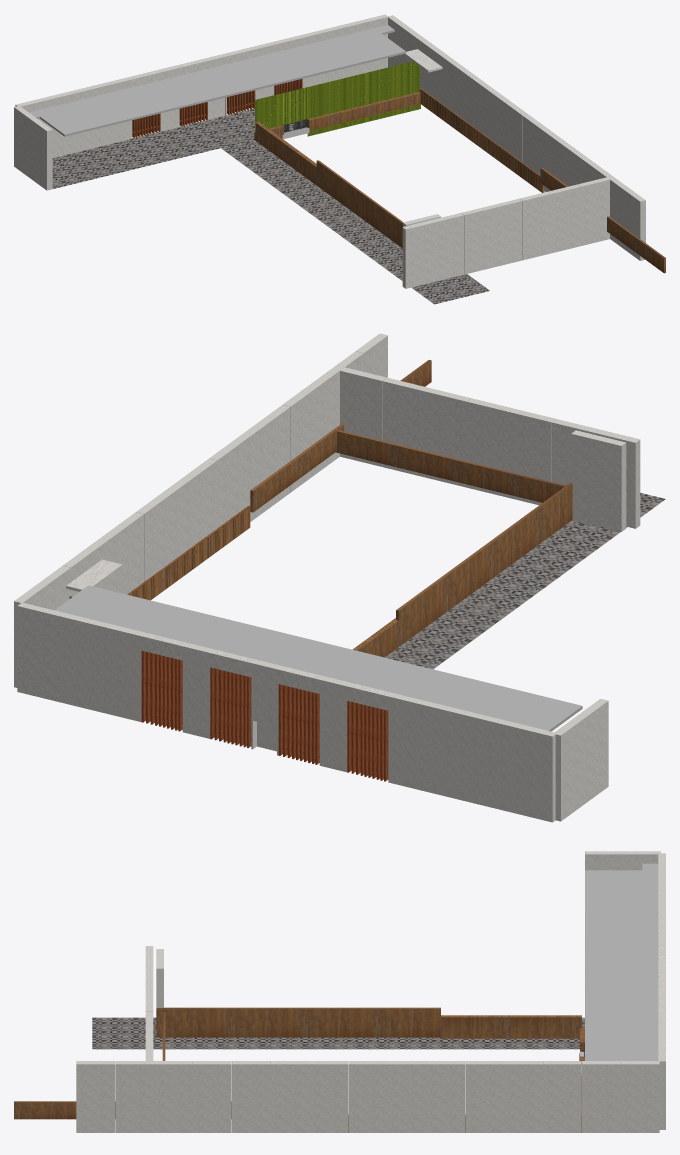
Rendered from WallsV1.fbx.
3 renders of one model, top to bottom at view 1: azimuth 30°, elevation 25°; view 2: azimuth 150°, elevation 25°; view 3: azimuth 270°, elevation 25°, orthographic. The views are drawn at different scales.
Parts seen in each view (by area): view 1: FE_Ceiling2; view 2: FE_Ceiling2; view 3: FE_Ceiling2.
Boxes of the visible parts, <box> form: FE_Ceiling2: <box>14,14,665,304</box>; FE_Ceiling2: <box>14,333,665,822</box>; FE_Ceiling2: <box>14,851,665,1132</box>.
Size of the model in its own units: 200 by 34.65 by 259.
Materials: 1 (1 with a texture image).
